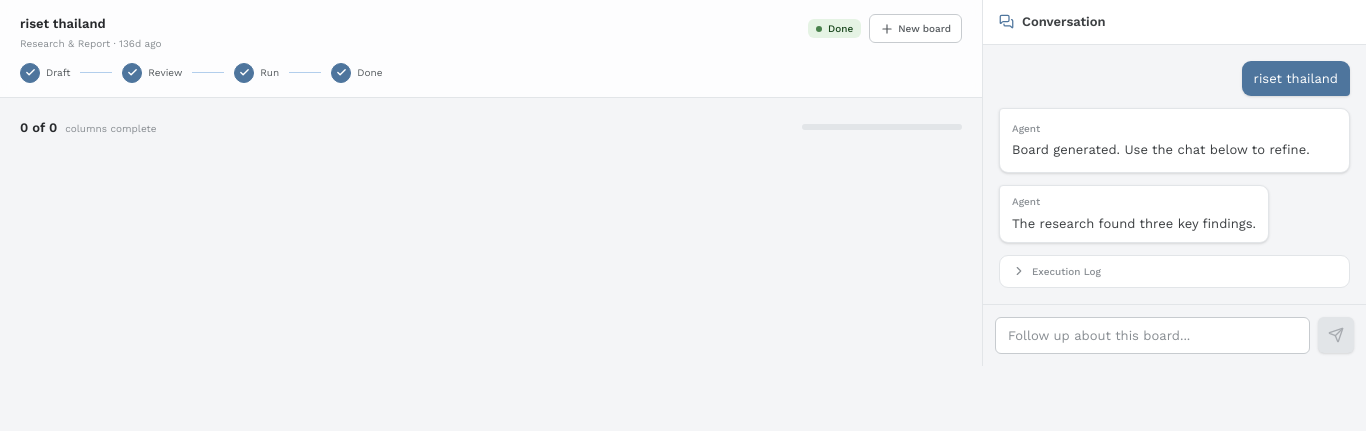
Test: bug-hunting: multi-turn conversation › shows streamed ASK response once via SSE when streamed flag is set
Expected: the 1st text "Agent" is shown, top-left (1012, 123), bottom-right (1040, 134)
Type "What were the findings?" into the field with placeholder "Follow up about this board...". click: coordinates (1152, 335)
box: top-left (995, 317), bottom-right (1310, 354)
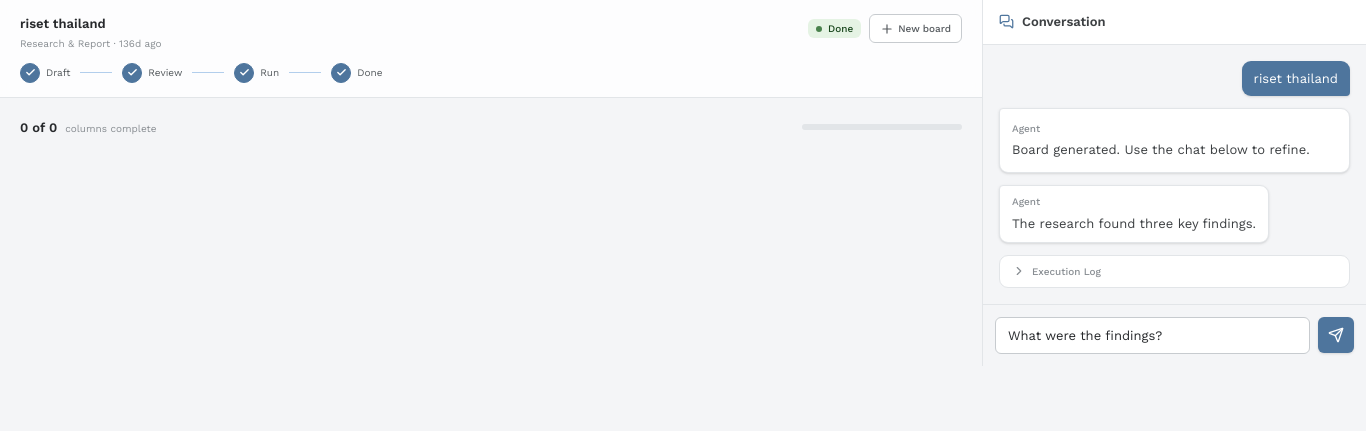
Click the button named "Send". click: coordinates (1336, 335)
box: top-left (1318, 317), bottom-right (1354, 353)
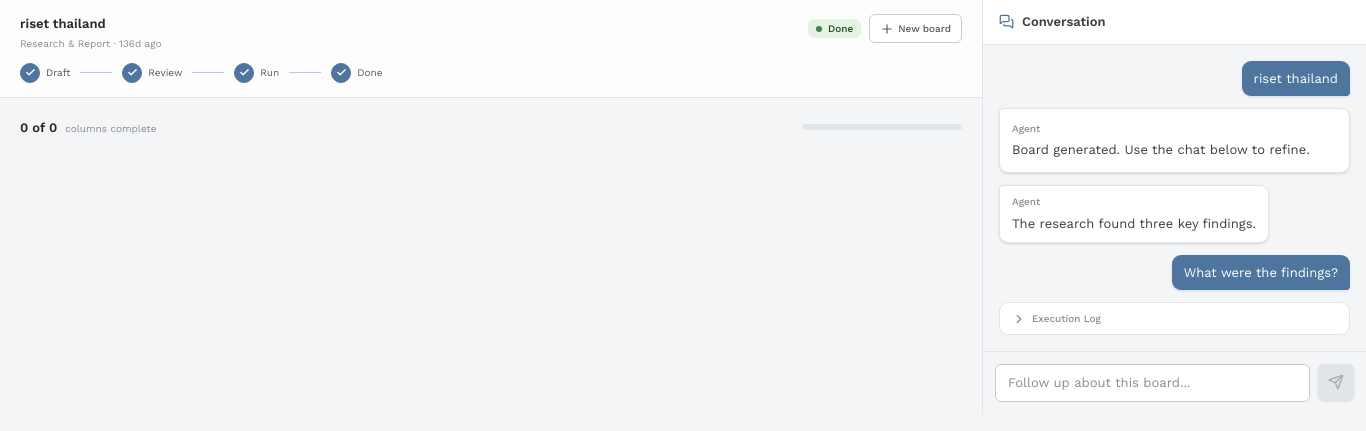
Expected: the text "The research found three key findings." is shown once, top-left (1012, 212), bottom-right (1256, 234)
